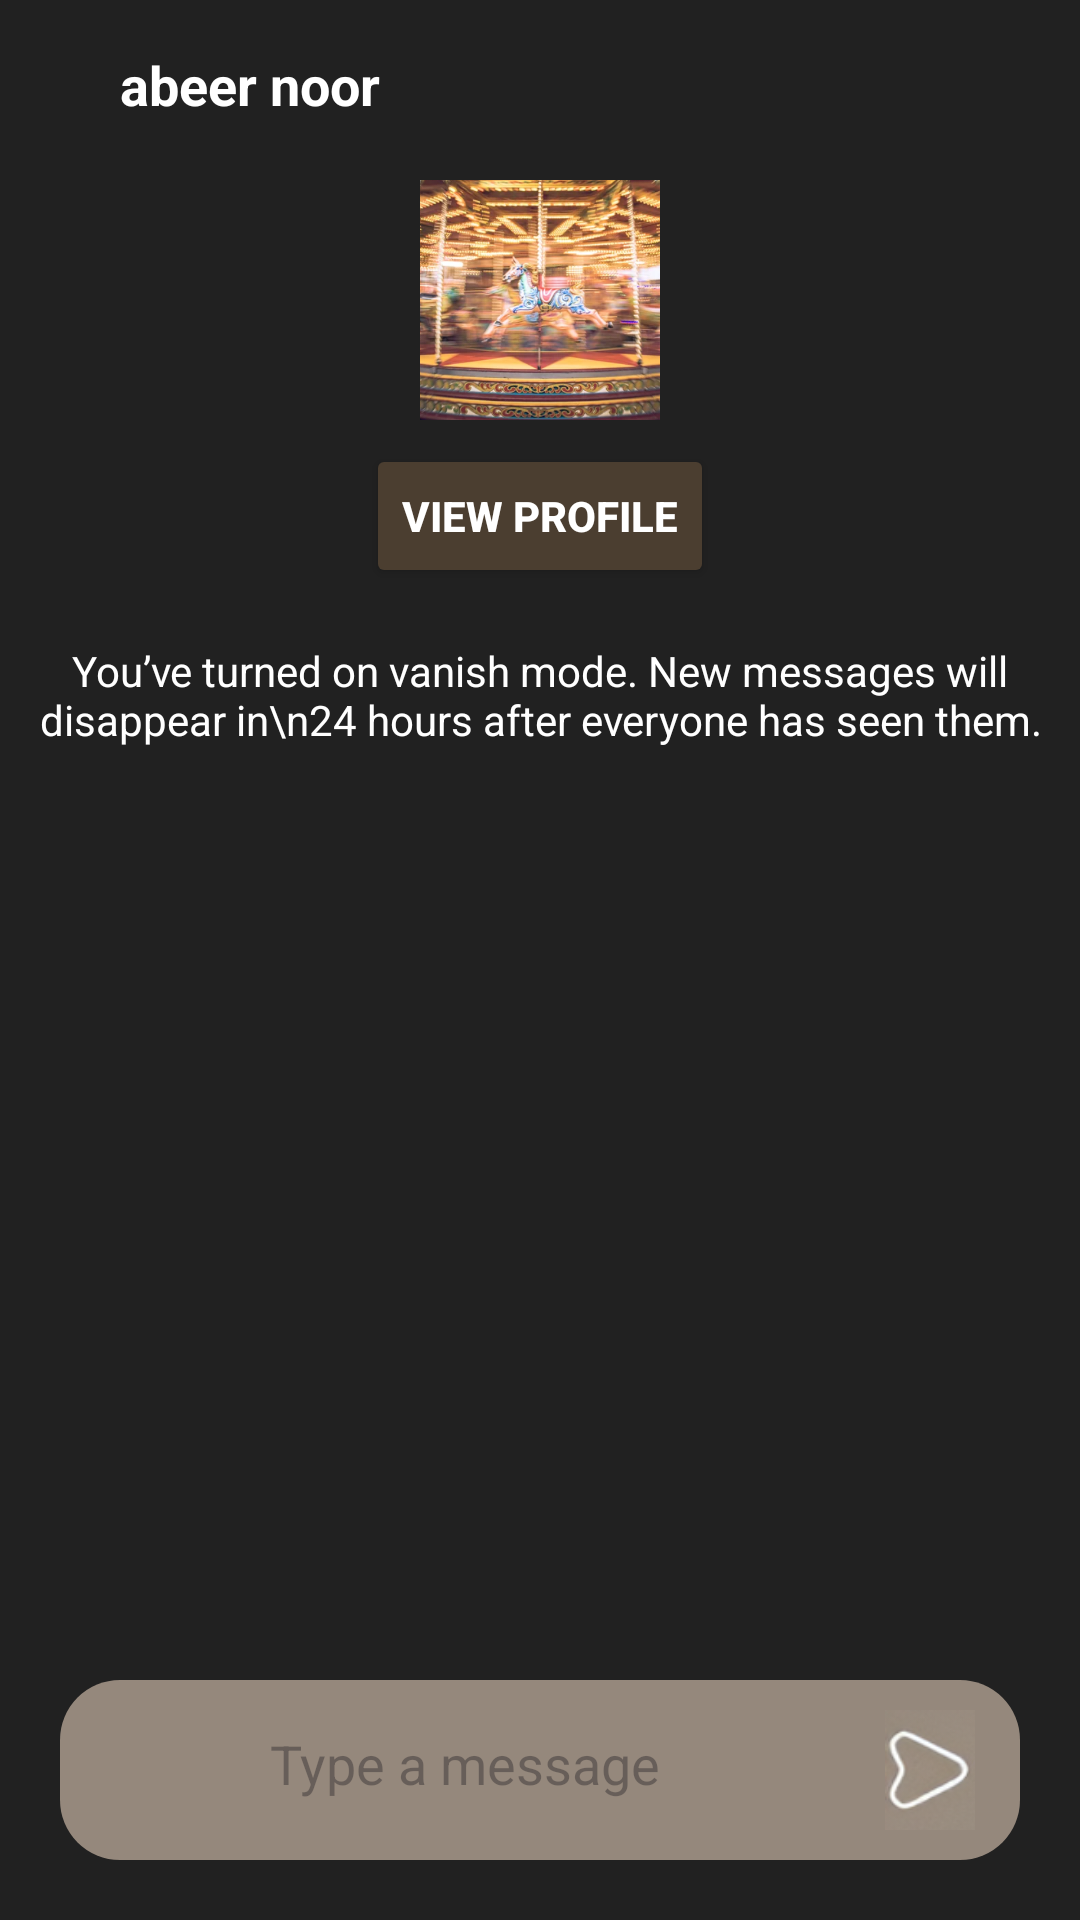

Locate icon controls on the screen. Image size 1080 × 1920, boxes as {"left": x1, "top": y1, "right": x2, "bottom": y2}.
post: {"left": 420, "top": 180, "right": 660, "bottom": 420}
send: {"left": 889, "top": 1731, "right": 969, "bottom": 1809}
